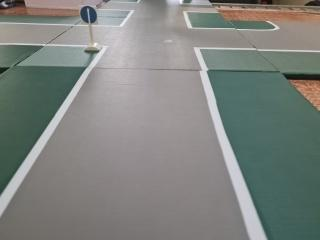straight: (77, 6, 99, 25)
